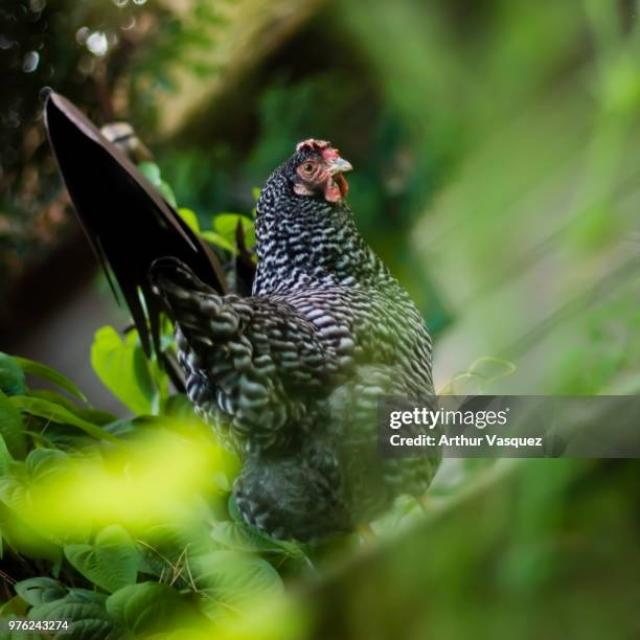Chicken: (46, 93, 439, 533)
